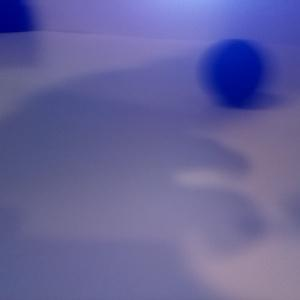dead_ball: (198, 39, 264, 105)
